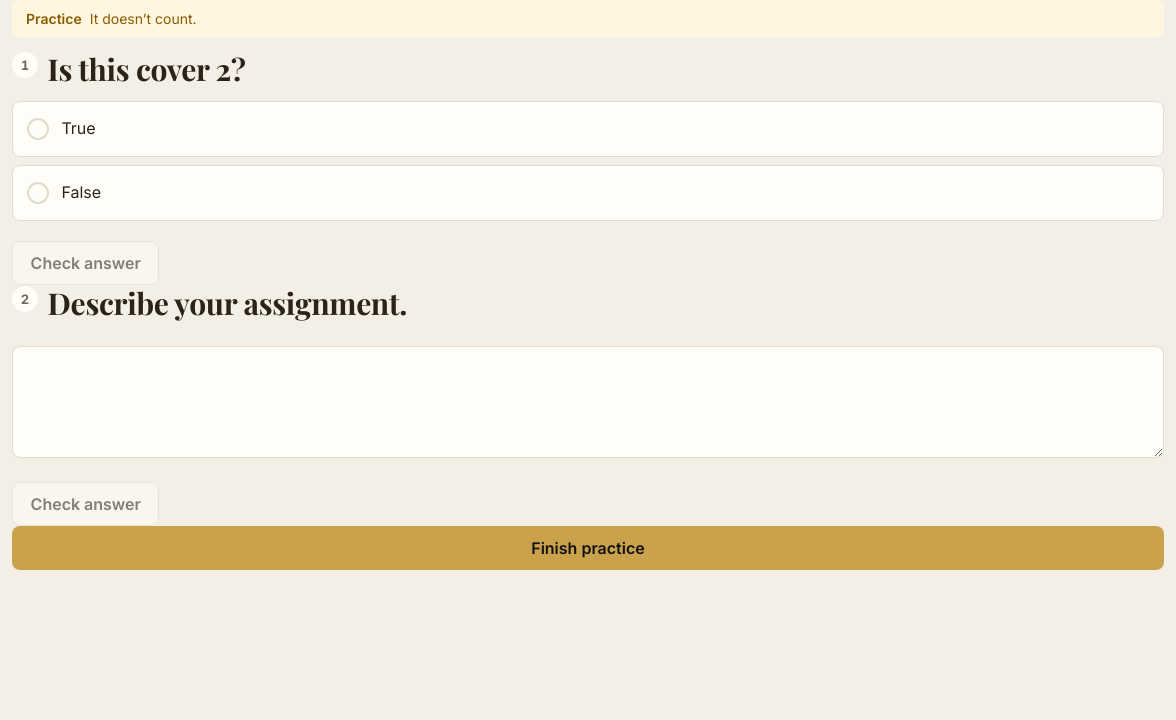
Practice Mode player flow › never invents a verdict for a question a coach must grade
Type "Set the edge." into the text box at [588, 402], box [12,346,1164,458]
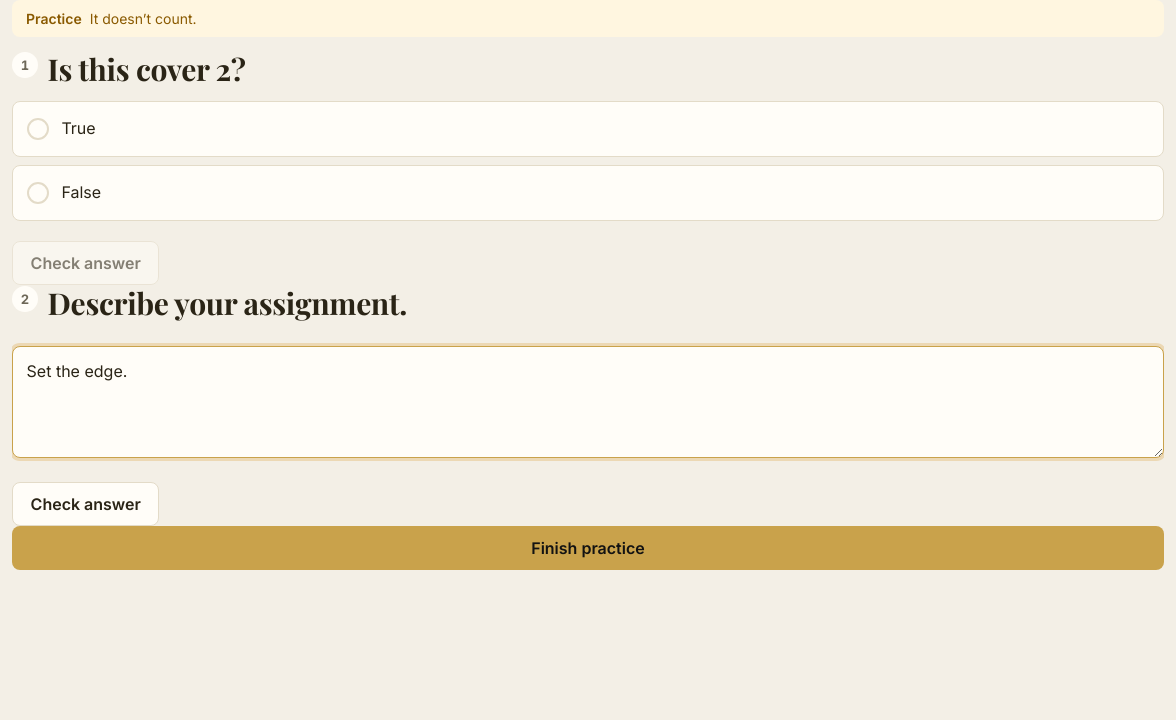
Click the 2nd button "Check answer" at [86, 504], box [12,482,160,526]
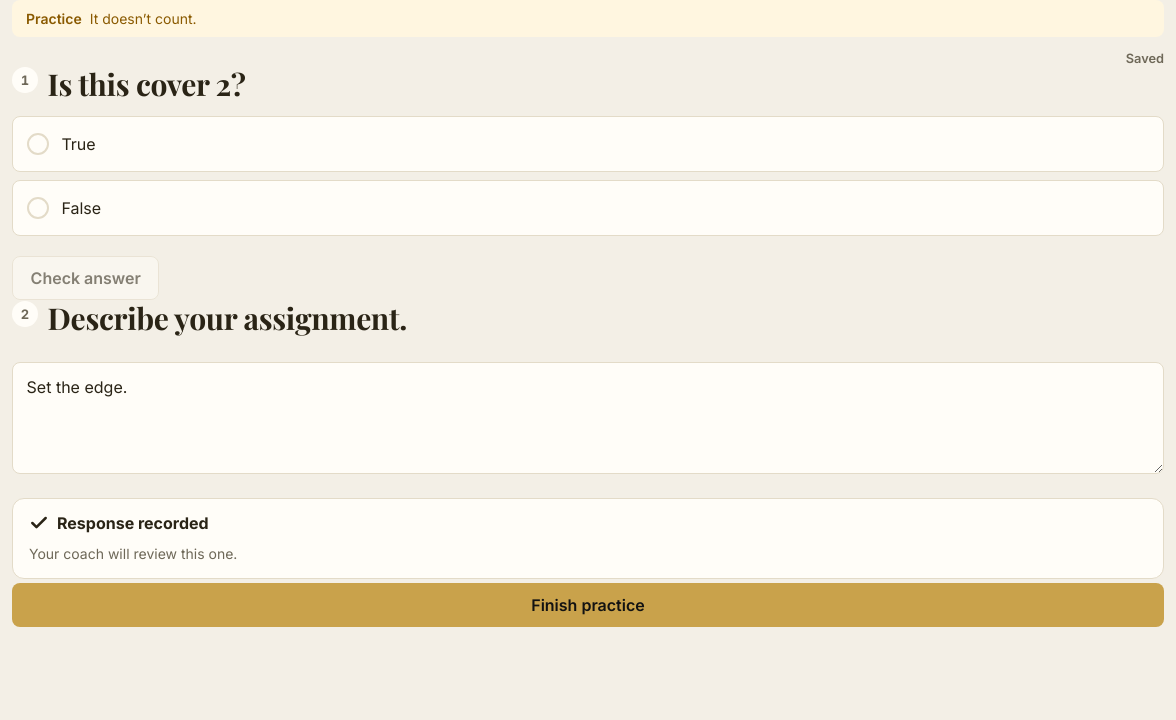
Result: the text "Response recorded" is shown at [57,512,209,532]
